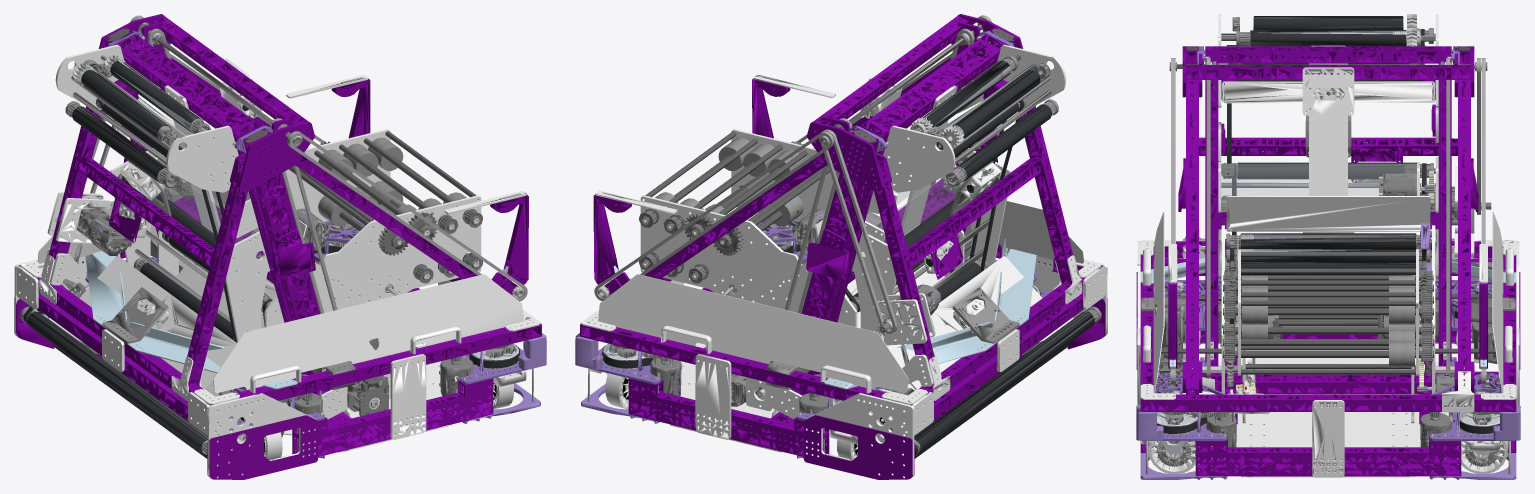
File: ultraviolet-3847.glb
3 renders of one model, left to right at view 1: azimuth 30°, elevation 25°; view 2: azimuth 150°, elevation 25°; view 3: azimuth 270°, elevation 25°, orthographic.
Visible parts, largest first — view 1: frame, amp, shooter, climber; view 2: frame, amp, shooter, climber; view 3: frame, amp, shooter, climber.
Part boxes in pixels (x1,y1,x2,y2): frame: (14, 14, 546, 479); amp: (55, 34, 315, 374); shooter: (285, 129, 483, 299); climber: (164, 53, 477, 279); frame: (575, 14, 1107, 479); amp: (806, 34, 1066, 374); shooter: (639, 129, 836, 299); climber: (644, 53, 957, 279); frame: (1136, 46, 1520, 479); amp: (1178, 14, 1478, 375); shooter: (1222, 249, 1434, 375); climber: (1186, 80, 1470, 394).
Bounding box in the file's own units: 0.7515 × 0.6887 × 0.7536.
